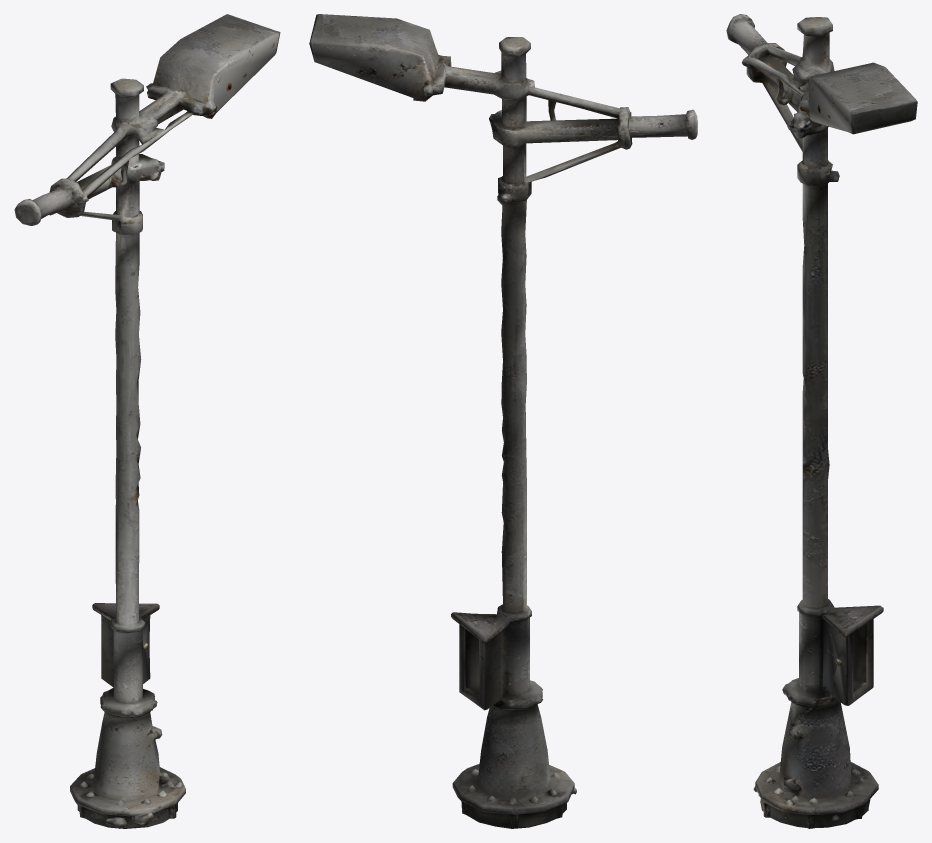
The model's file is lamp_post_01.fbx.
The picture shows the model from 3 angles, left to right: view 1: azimuth 30°, elevation 25°; view 2: azimuth 150°, elevation 25°; view 3: azimuth 270°, elevation 25°; orthographic projection. The views are drawn at different scales.
Visible parts, largest first — view 1: tripo_node_f828e544; view 2: tripo_node_f828e544; view 3: tripo_node_f828e544.
Part boxes in pixels (bbox=[...]): tripo_node_f828e544: bbox=[14, 14, 280, 828]; tripo_node_f828e544: bbox=[309, 14, 697, 828]; tripo_node_f828e544: bbox=[726, 14, 917, 828].
Bounding box in the file's own units: 0.4521 × 1 × 0.2211.
1 material, 1 textured.
